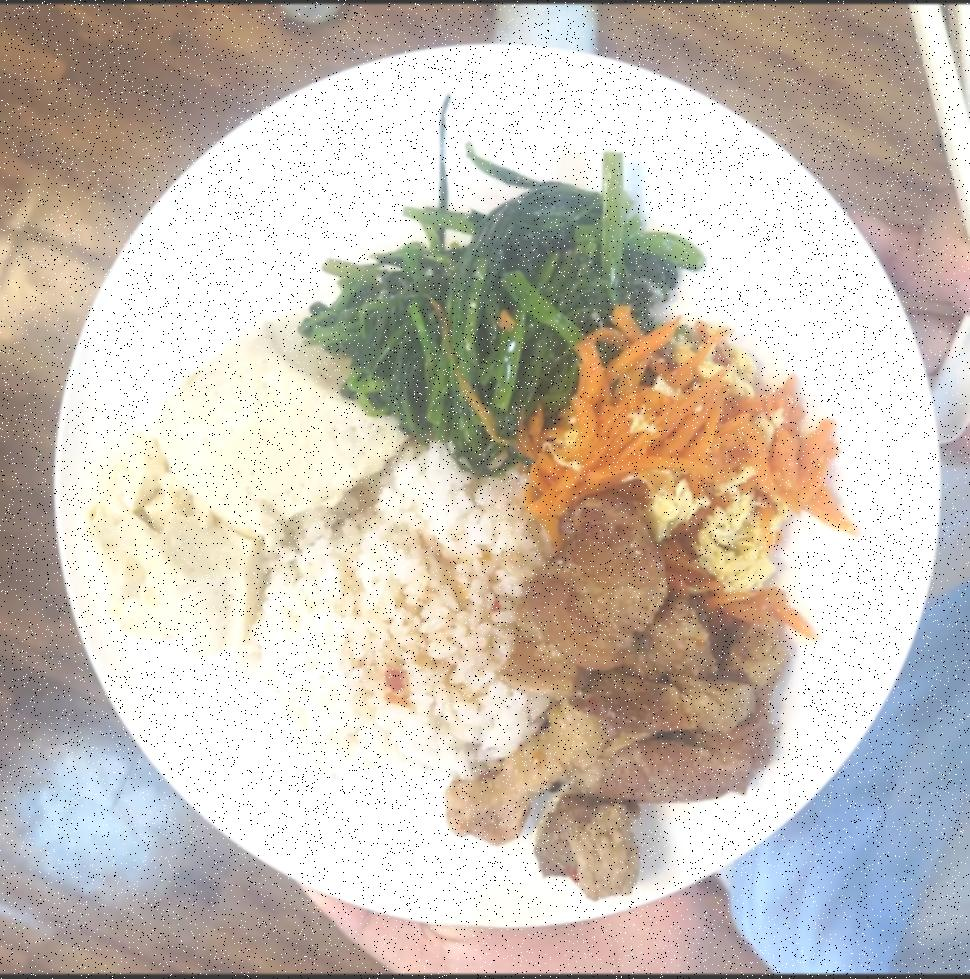big fried chicken leg: (38, 29, 950, 951)
big herbal chicken leg: (258, 445, 570, 783)
braised fish fillet: (310, 167, 682, 453), (86, 319, 402, 647), (526, 320, 846, 588)
braised pork: (450, 491, 814, 888)
